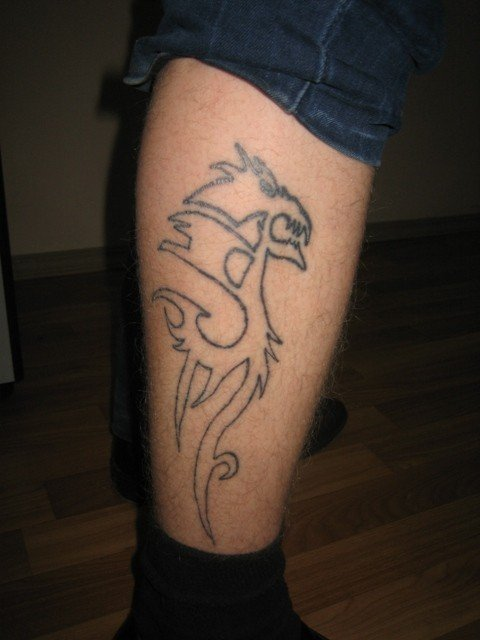tatu3_bukva: (146, 137, 323, 551)
